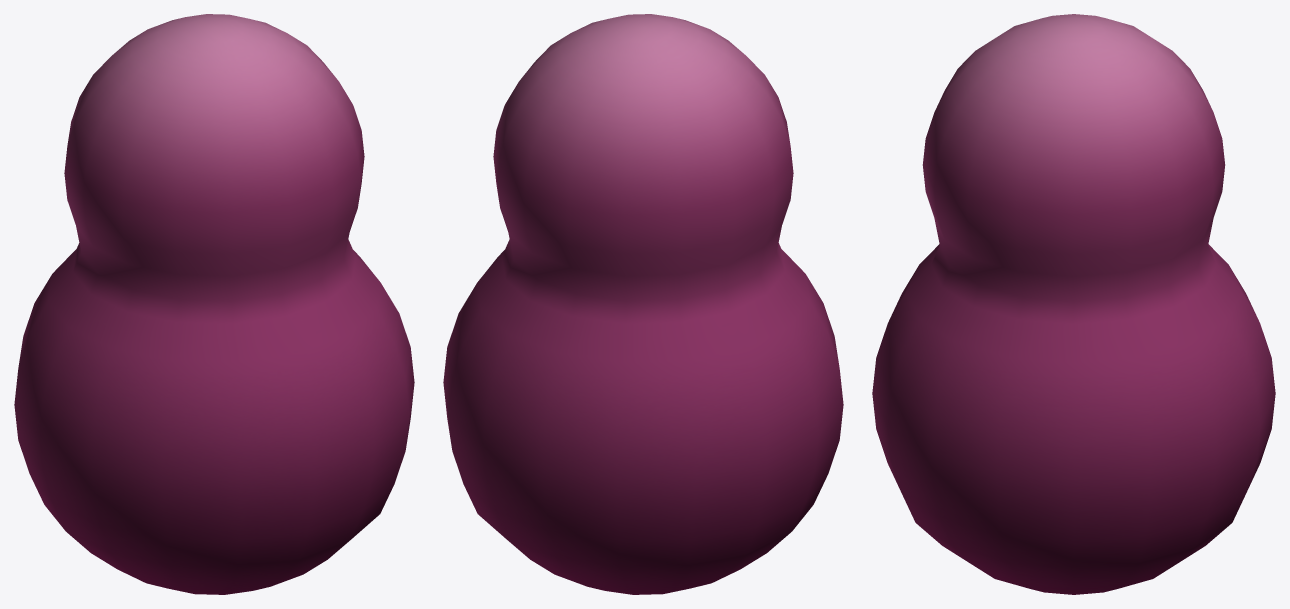
File: Creature_Peanut.fbx
The picture shows the model from 3 angles, left to right: view 1: azimuth 30°, elevation 25°; view 2: azimuth 150°, elevation 25°; view 3: azimuth 270°, elevation 25°; orthographic projection.
Visible parts, largest first — view 1: CreatureBody; view 2: CreatureBody; view 3: CreatureBody.
Boxes of the visible parts, x1,y1,x2,y2 form: CreatureBody: (14, 14, 414, 594); CreatureBody: (443, 14, 843, 594); CreatureBody: (872, 14, 1275, 594).
Size of the model in its own units: 2 by 3 by 2.
1 material, 1 textured.
